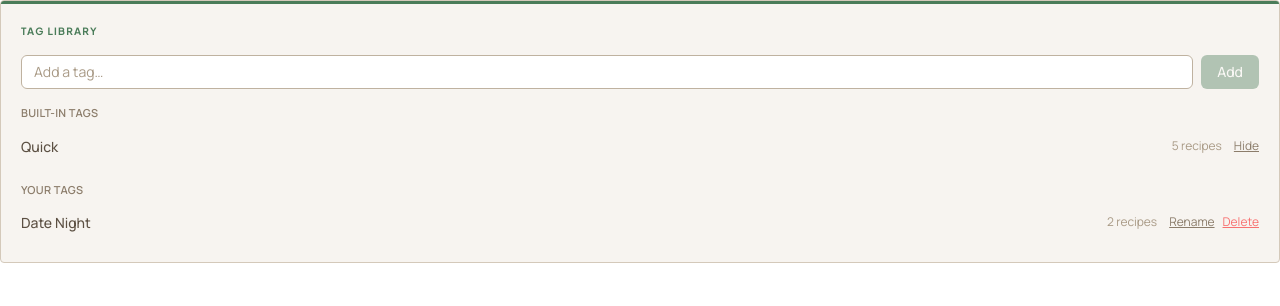
Scenario: Spec-19 T7 - renaming to a first-class tag name is rejected › shows error when new name matches a built-in tag
The image size is (1280, 306).
Click the button "Rename": [1192, 222] box [1169, 214, 1214, 230]
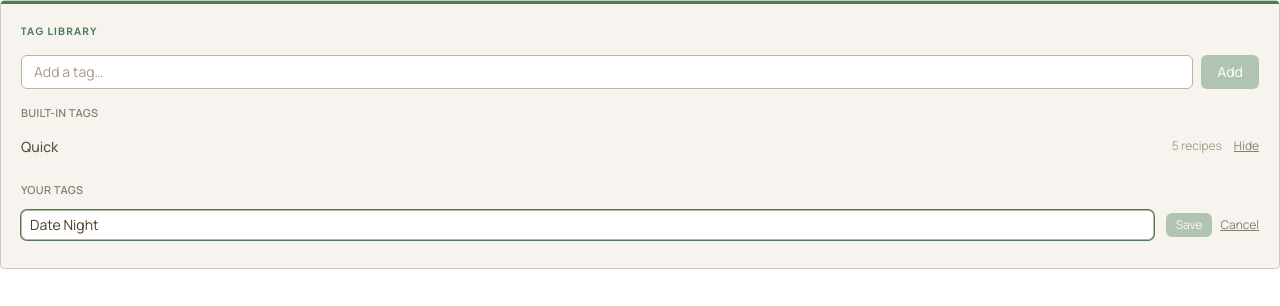
Replace the text in the field showing "Date Night" with "Quick": [587, 225] box [21, 210, 1154, 240]
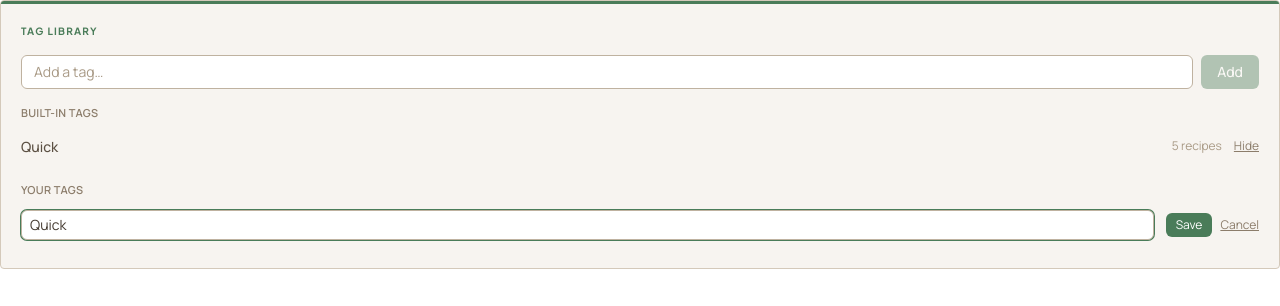
Click the button "Save": [1189, 225] box [1166, 213, 1212, 237]
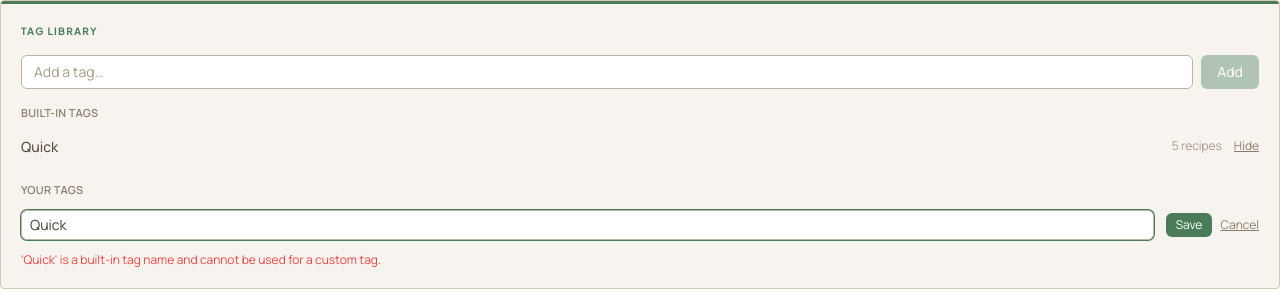
Now the text "'Quick' is a built-in tag name and cannot be used for a custom tag." is shown, box [21, 251, 381, 268]
